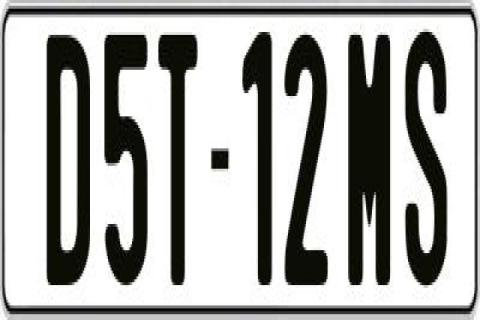0: (284, 29, 334, 285), (102, 27, 146, 286), (243, 32, 275, 288)
D: (46, 29, 96, 288)
M: (348, 35, 390, 291)
S: (406, 26, 454, 288)
T: (158, 35, 202, 288)
